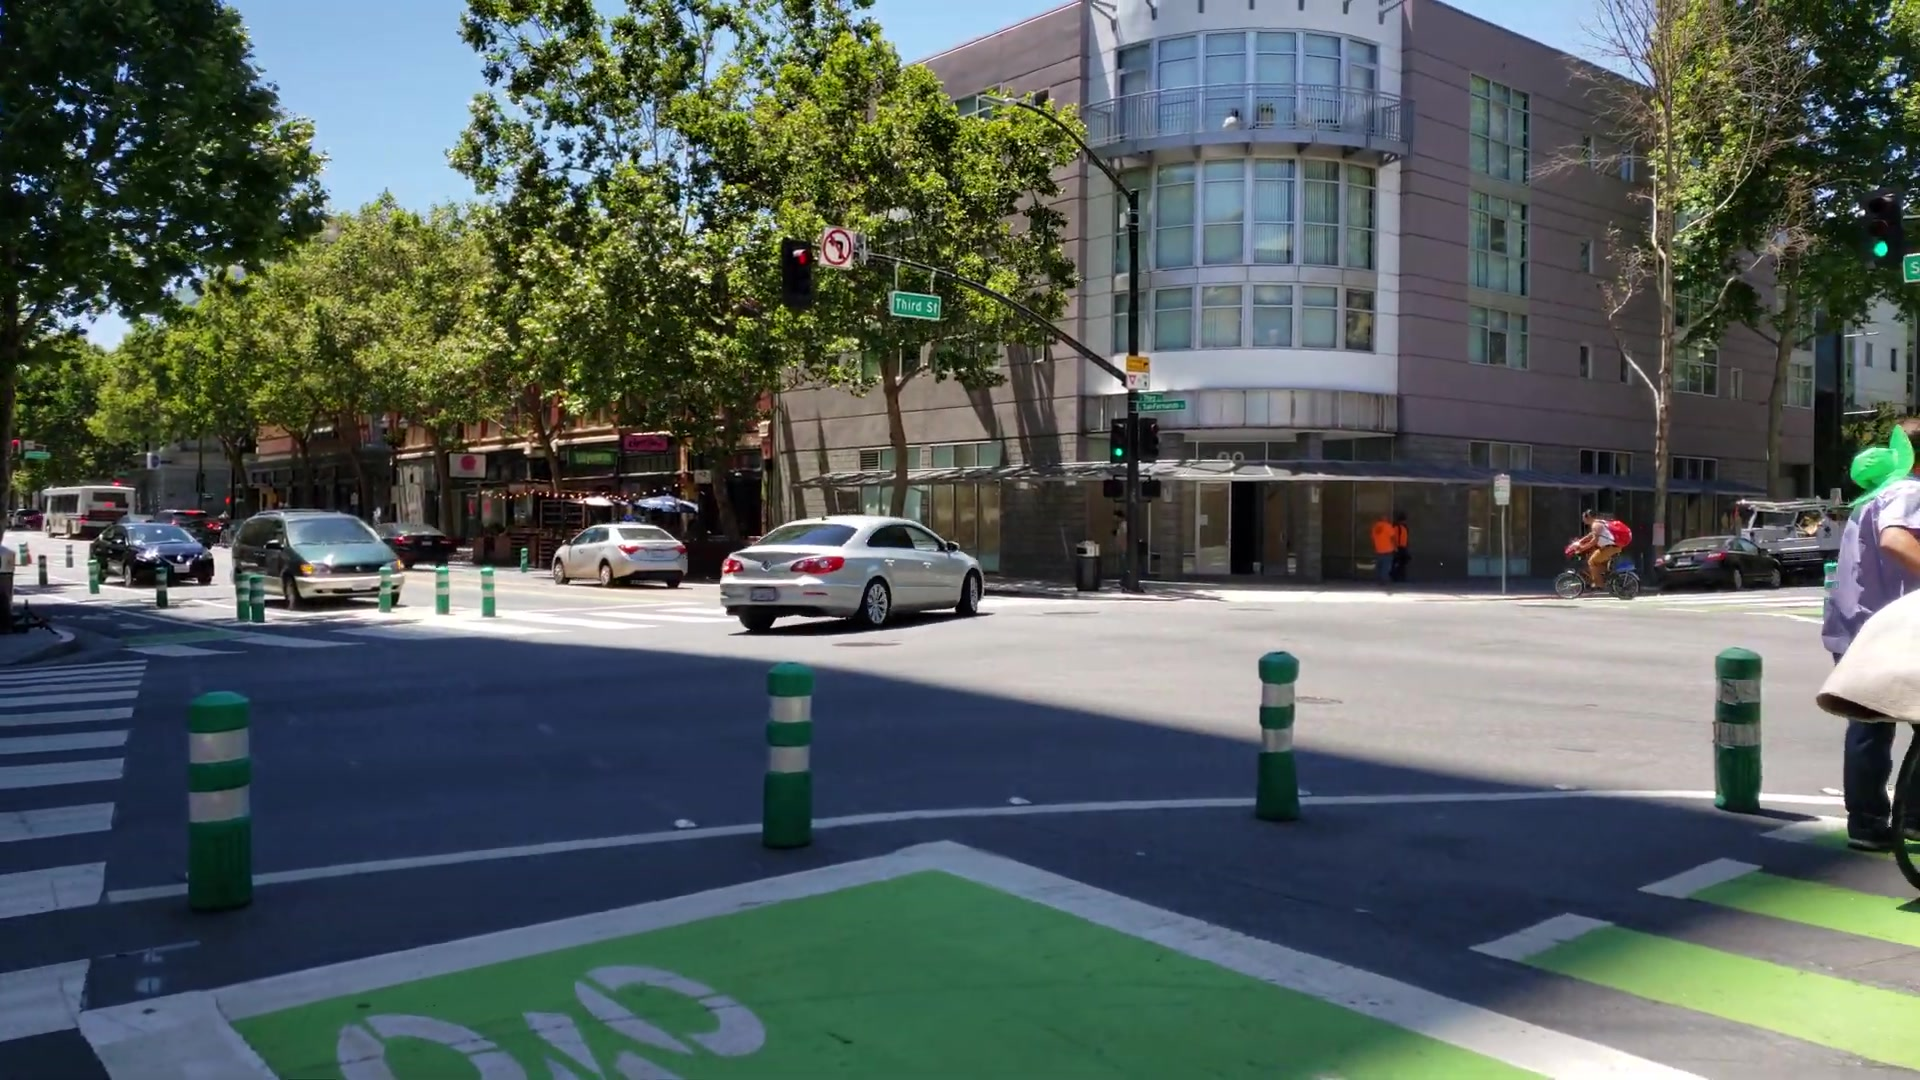vehicle: (723, 513, 984, 624), (233, 506, 405, 607), (553, 524, 688, 589), (88, 520, 215, 585)
